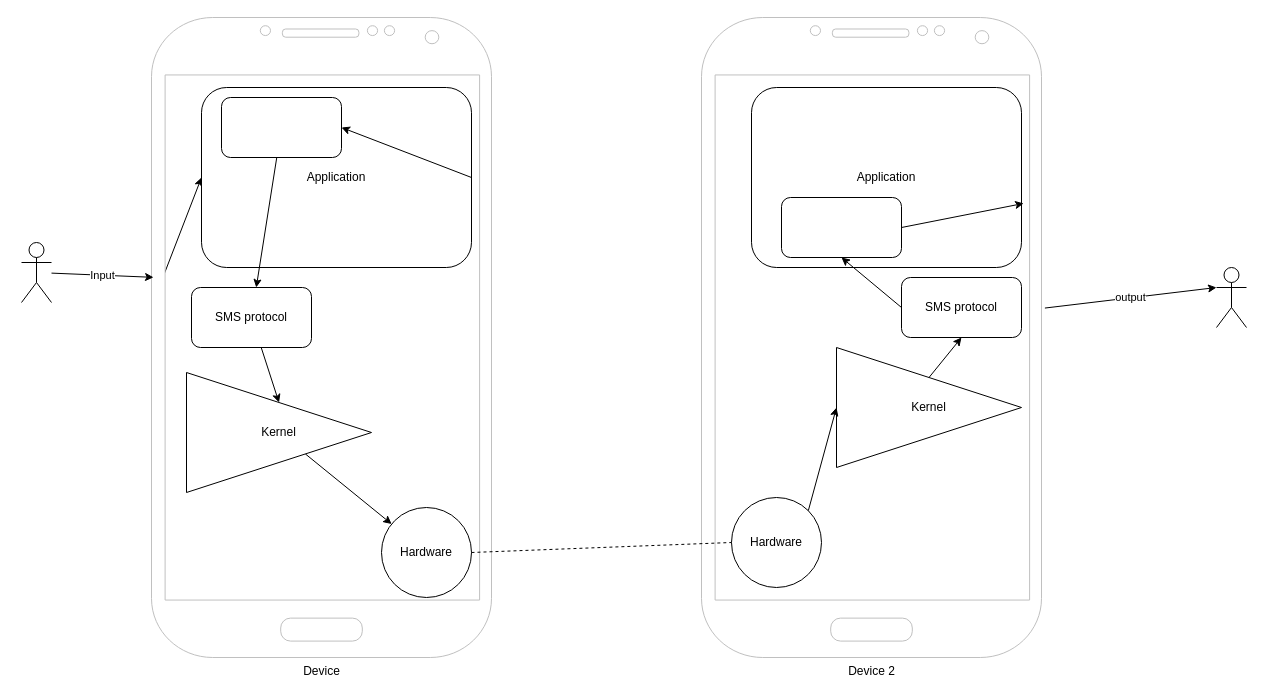
This 1270x696 diagram has some shape labels left out. Here are the shapes that lost their labels. From the top down, the centre of each, then its label:
the point at 281,127: Encoder
the point at 841,227: decoder
the point at 36,272: Sender
the point at 1231,297: receiver
